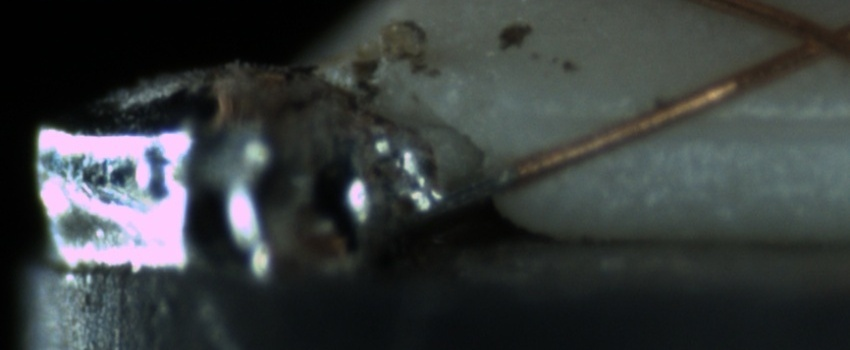CL: (774, 7, 848, 68)
DL: (535, 86, 849, 154)
TS: (416, 165, 515, 216)
TTCW: (413, 154, 541, 216)
